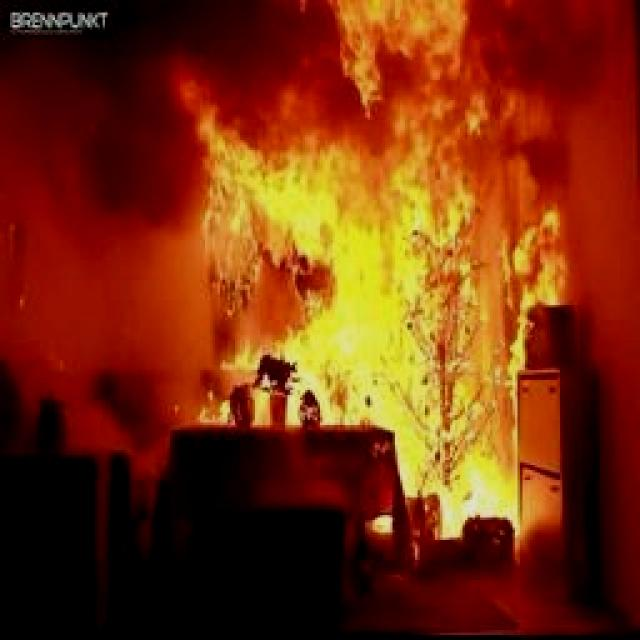fire: (89, 4, 596, 568)
